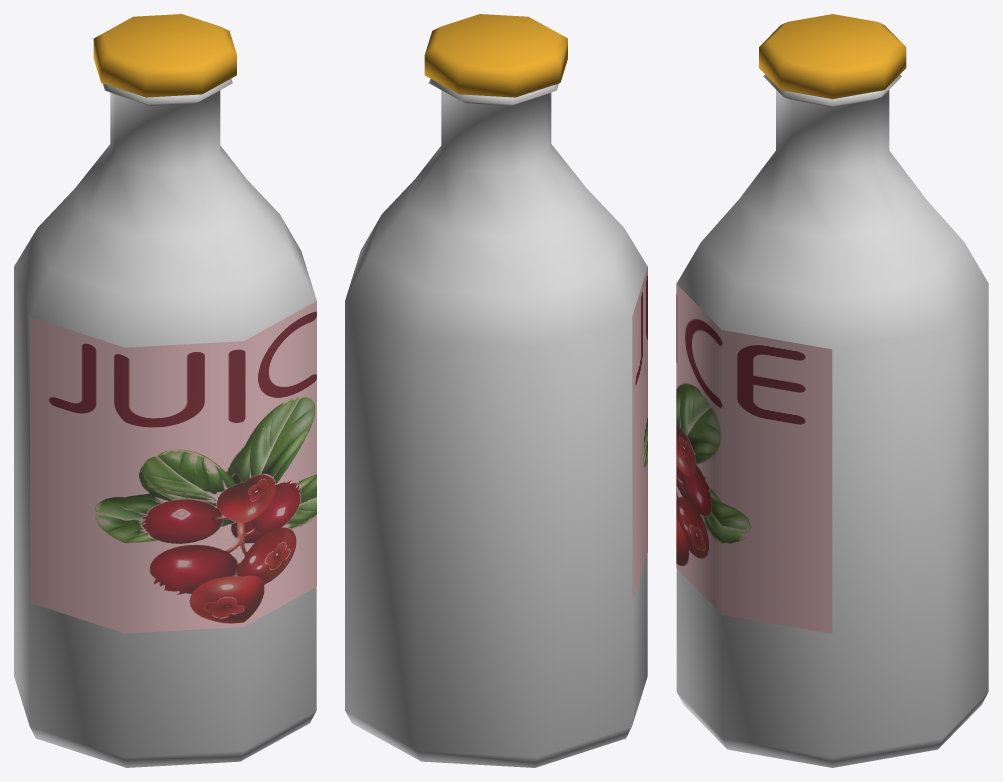
File: bottle_juice_labeled.fbx
3 renders of one model, left to right at view 1: azimuth 30°, elevation 25°; view 2: azimuth 150°, elevation 25°; view 3: azimuth 270°, elevation 25°, orthographic.
Parts seen in each view (by area): view 1: Bottle, Label, Cap; view 2: Bottle, Cap, Label; view 3: Bottle, Label, Cap.
Boxes of the visible parts, box(x1,y1,x2,y2) form: Bottle: box(14, 79, 316, 767); Label: box(30, 252, 316, 633); Cap: box(93, 14, 236, 97); Bottle: box(345, 78, 647, 767); Cap: box(424, 14, 567, 97); Label: box(632, 266, 647, 601); Bottle: box(676, 74, 988, 767); Label: box(676, 283, 832, 633); Cap: box(759, 14, 906, 99).
Bounding box in the file's own units: 41.89 × 98.32 × 41.95.
